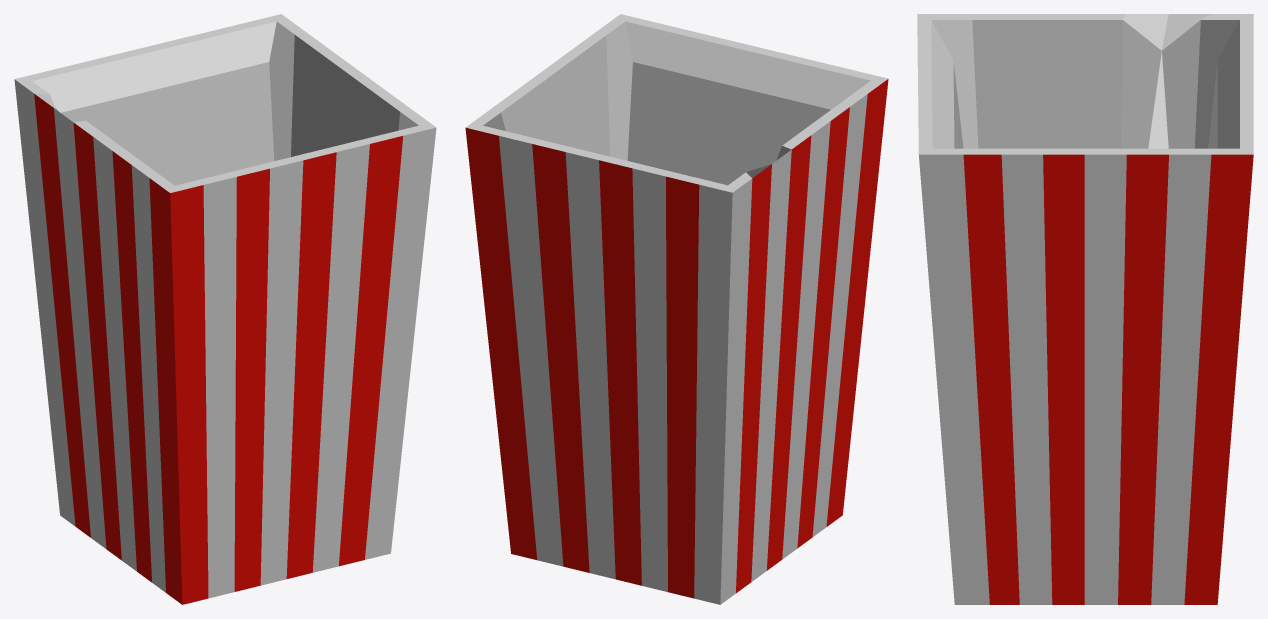
Rendered from popcorn-empty.fbx.
3 renders of one model, left to right at view 1: azimuth 30°, elevation 25°; view 2: azimuth 150°, elevation 25°; view 3: azimuth 270°, elevation 25°, orthographic. The views are drawn at different scales.
Visible parts, largest first — view 1: Cube; view 2: Cube; view 3: Cube.
Boxes of the visible parts, left/top/right/bottom form: Cube: left=14, top=14, right=436, bottom=604; Cube: left=465, top=14, right=888, bottom=604; Cube: left=917, top=14, right=1253, bottom=604.
Size of the model in its own units: 197 by 304 by 199.
